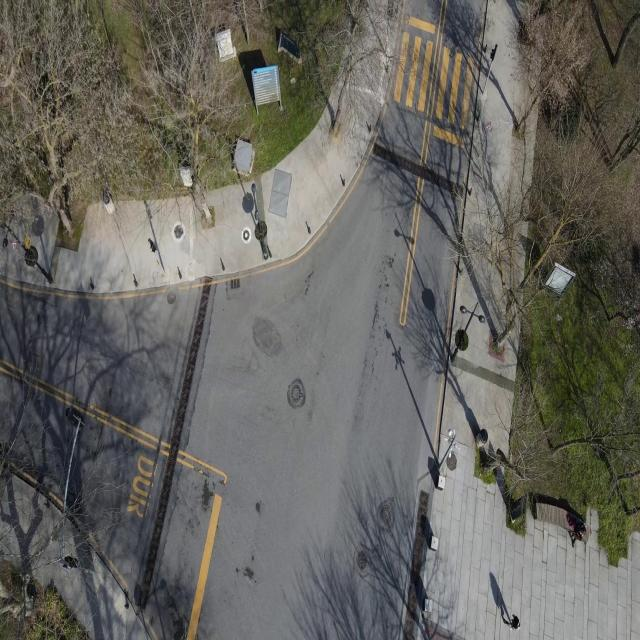p3rson: (570, 523, 586, 552), (509, 614, 520, 632)
